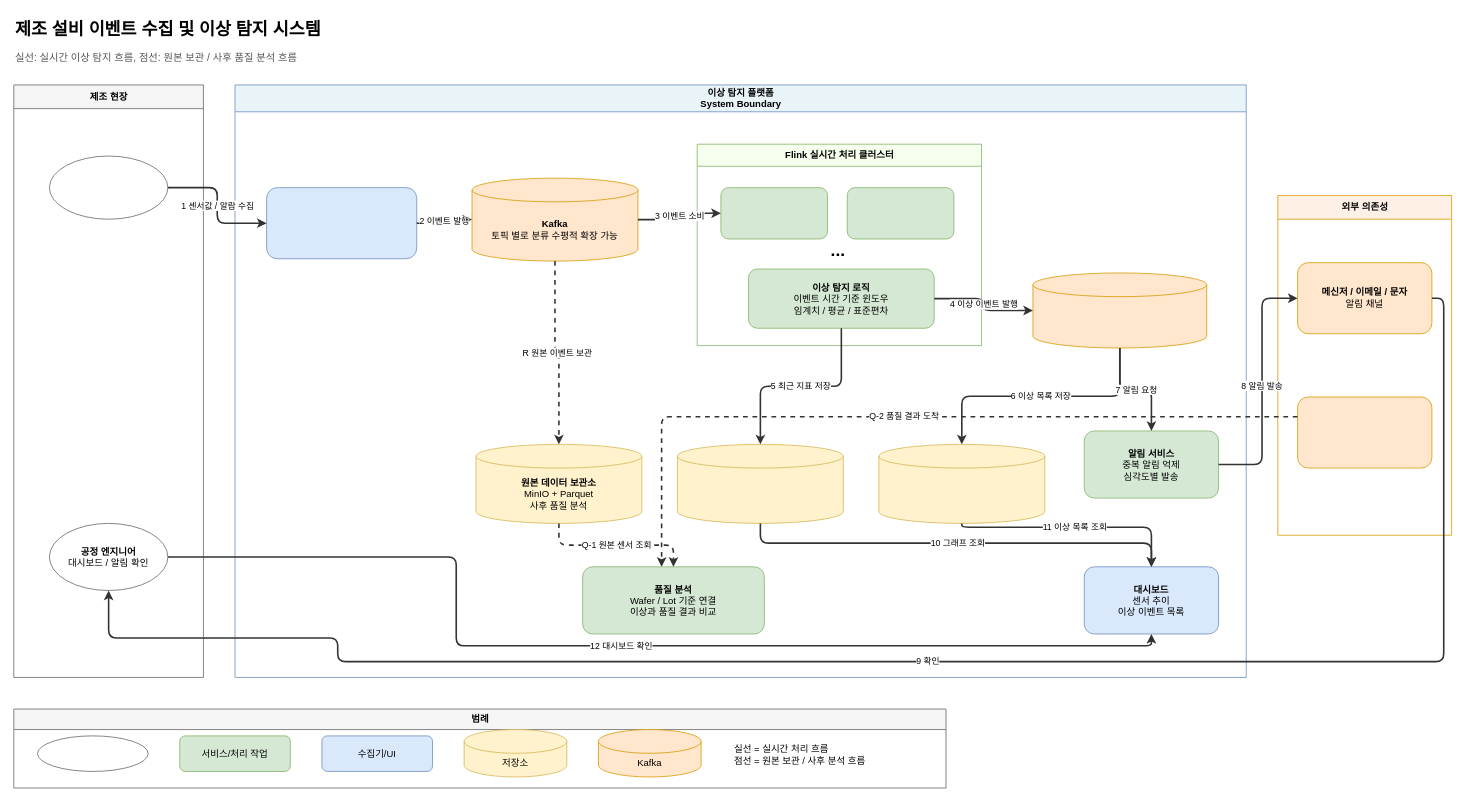
Some shapes in this 1465 by 802 pixel diagram are drawn without their labels. Each missing label, with the centre of its shape:
ClickHouse 최근 센서 그래프 집계 데이터: [760,483]
Kafka 이상 이벤트: [1119,310]
수집기 장비 프로토콜 수신 정규화 / 로컬 버퍼: [341,223]
외부 사용자/시스템: [92,753]
이상 이벤트 저장소 이상 목록 검색 상태 / 심각도 관리: [961,483]
작업자 1 토픽 별 처리: [774,213]
작업자 2 토픽 별 처리: [900,213]
증착 장비 센서 / 알람: [108,187]
품질 검사 시스템 두께 / 결함 / 수율 결과: [1364,432]
